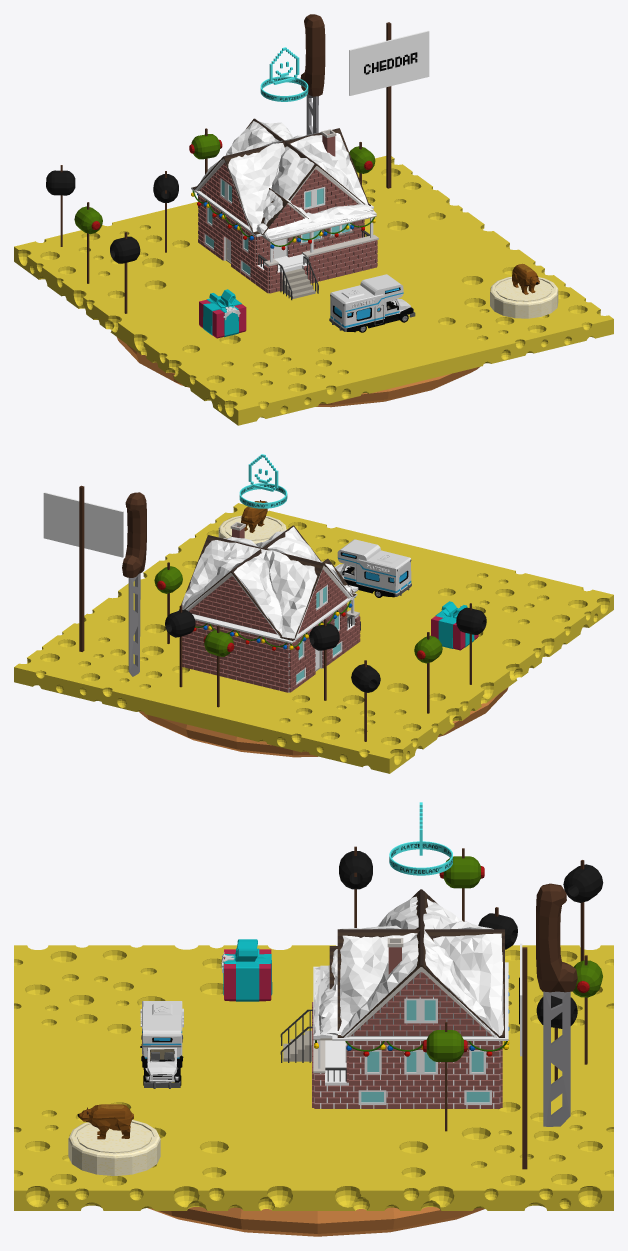
The picture shows the model from 3 angles, top to bottom: view 1: azimuth 30°, elevation 25°; view 2: azimuth 150°, elevation 25°; view 3: azimuth 270°, elevation 25°; orthographic projection. The views are drawn at different scales.
Visible parts, largest first — view 1: Cube.022, Cube.1419, Cube.023, VEHICLES_CAMPER, Cylinder.016, Cube.024, UNDERGROUND_PIZZA, OBJRANDOM_GIANT_PRESENT, TYPE_PREMIUM, Sphere.017, Sphere.016, Sphere.018 (+4 smaller); view 2: Cube.022, Cube.1419, Cube.023, VEHICLES_CAMPER, Cube.024, UNDERGROUND_PIZZA, OBJRANDOM_GIANT_PRESENT, TYPE_PREMIUM, Cylinder.016, Sphere.021, Sphere.020, Sphere.017 (+5 smaller); view 3: Cube.022, Cube.1419, Cube.024, UNDERGROUND_PIZZA, Cylinder.016, VEHICLES_CAMPER, OBJRANDOM_GIANT_PRESENT, Cube.023, Sphere.016, Sphere.019, ANIMAL_OSO, TYPE_PREMIUM (+5 smaller).
Boxes of the visible parts, bbox=[...] form: Cube.022: bbox=[14, 156, 613, 425]; Cube.1419: bbox=[191, 118, 378, 300]; Cube.023: bbox=[349, 22, 429, 188]; VEHICLES_CAMPER: bbox=[329, 274, 415, 332]; Cylinder.016: bbox=[490, 276, 558, 318]; Cube.024: bbox=[300, 14, 325, 134]; UNDERGROUND_PIZZA: bbox=[117, 337, 479, 407]; OBJRANDOM_GIANT_PRESENT: bbox=[199, 289, 246, 338]; TYPE_PREMIUM: bbox=[260, 47, 308, 101]; Sphere.017: bbox=[110, 232, 140, 313]; Sphere.016: bbox=[46, 165, 75, 246]; Sphere.018: bbox=[74, 202, 102, 283]; Cube.022: bbox=[14, 503, 613, 773]; Cube.1419: bbox=[178, 522, 360, 692]; Cube.023: bbox=[43, 485, 123, 651]; VEHICLES_CAMPER: bbox=[335, 539, 411, 597]; Cube.024: bbox=[122, 492, 146, 676]; UNDERGROUND_PIZZA: bbox=[139, 687, 508, 757]; OBJRANDOM_GIANT_PRESENT: bbox=[431, 601, 478, 650]; TYPE_PREMIUM: bbox=[239, 454, 287, 508]; Cylinder.016: bbox=[218, 515, 286, 543]; Sphere.021: bbox=[165, 605, 195, 687]; Sphere.020: bbox=[309, 619, 339, 700]; Sphere.017: bbox=[456, 603, 486, 684]; Cube.022: bbox=[14, 945, 613, 1210]; Cube.1419: bbox=[280, 889, 509, 1108]; Cube.024: bbox=[536, 883, 577, 1126]; UNDERGROUND_PIZZA: bbox=[148, 1207, 484, 1236]; Cylinder.016: bbox=[68, 1119, 160, 1175]; VEHICLES_CAMPER: bbox=[140, 1001, 183, 1088]; OBJRANDOM_GIANT_PRESENT: bbox=[221, 939, 272, 1001]; Cube.023: bbox=[519, 943, 527, 1169]; Sphere.016: bbox=[563, 860, 603, 961]; Sphere.019: bbox=[422, 1022, 467, 1131]; ANIMAL_OSO: bbox=[77, 1104, 133, 1139]; TYPE_PREMIUM: bbox=[389, 802, 452, 875].
Size of the model in its own units: 3917 by 2436 by 4000.
48 materials, 4 textured.
